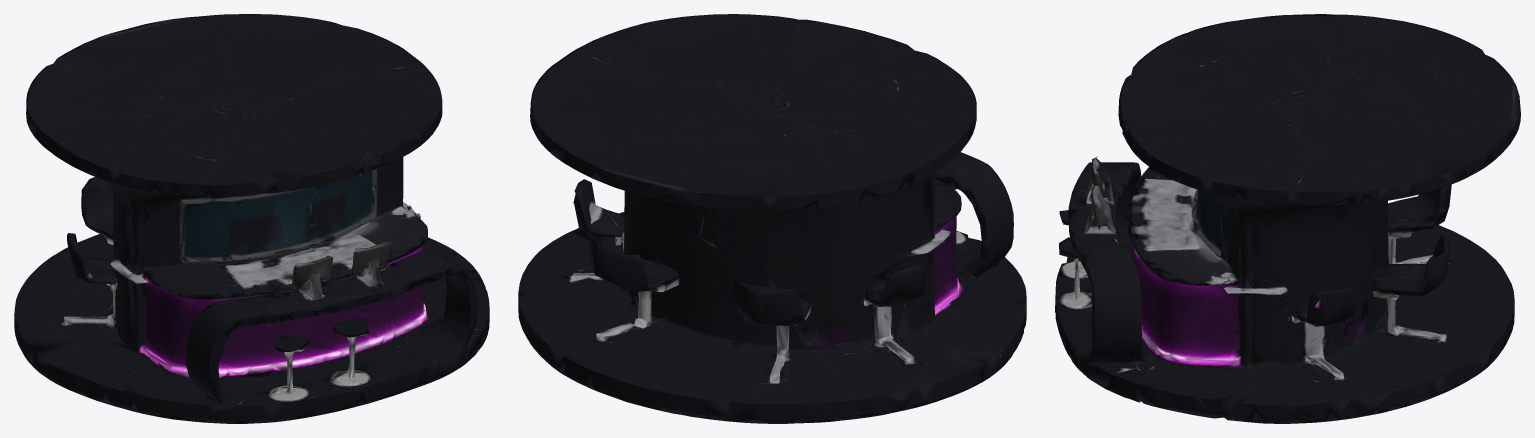
Rendered from co_desk_p.glb.
3 renders of one model, left to right at view 1: azimuth 30°, elevation 25°; view 2: azimuth 150°, elevation 25°; view 3: azimuth 270°, elevation 25°, orthographic. The views are drawn at different scales.
Size of the model in its own units: 1.9 by 0.9248 by 1.79.
1 material, 1 textured.
